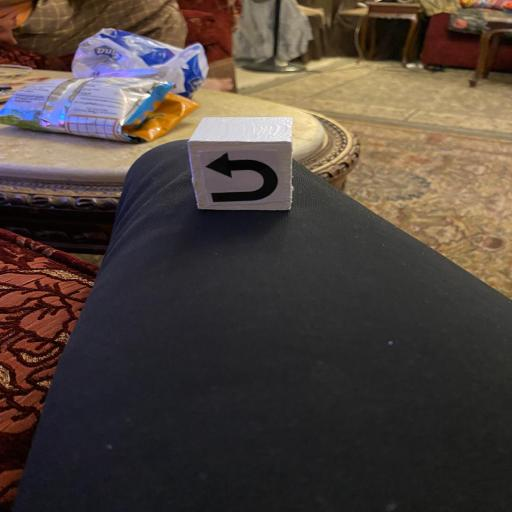Undo: (185, 117, 296, 210)
